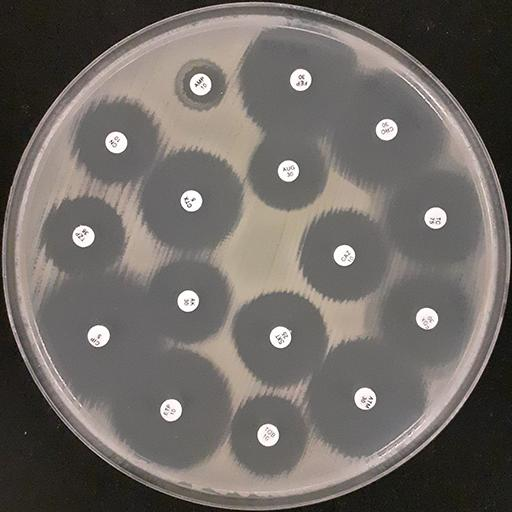disc: (72, 225, 95, 248), (87, 325, 110, 348), (105, 131, 127, 154), (180, 189, 202, 212), (333, 244, 355, 267), (270, 326, 292, 349), (376, 119, 398, 141), (277, 160, 299, 182), (177, 290, 199, 312), (416, 308, 438, 330), (354, 388, 376, 410), (160, 399, 182, 421), (257, 424, 279, 446), (290, 68, 311, 91), (190, 73, 211, 95), (425, 207, 446, 229)
